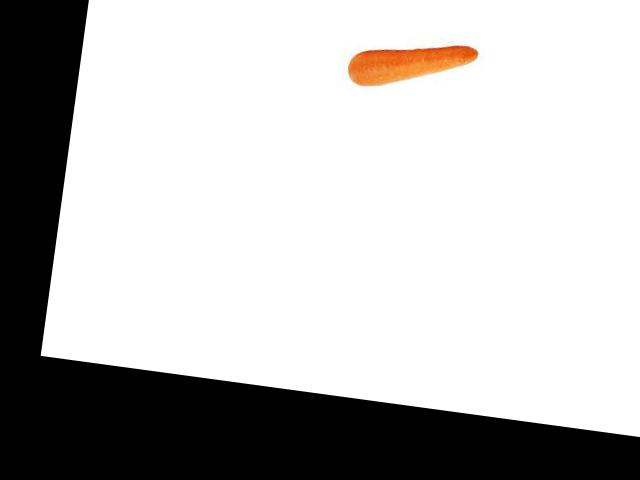carrot: (342, 24, 488, 103)
